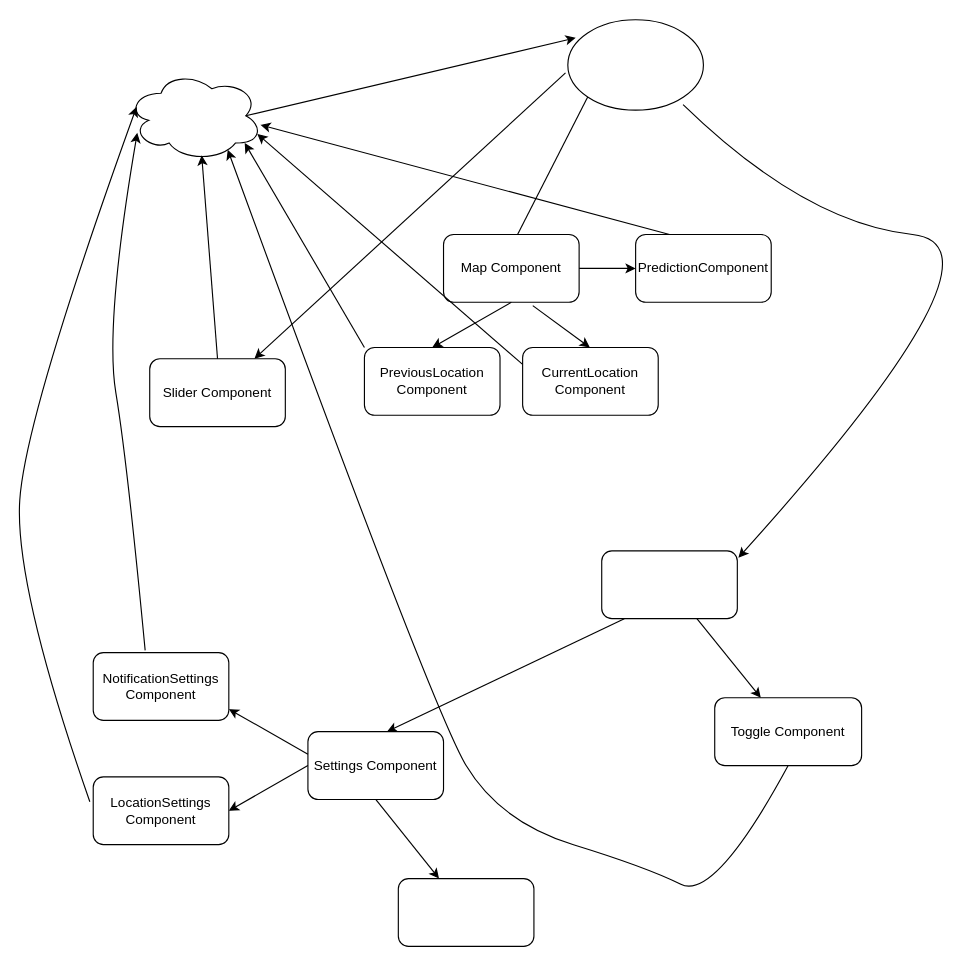
Image size: 963x966. Some labels were removed from this diagram. Each missing label, with the centre of its shape:
App Component: (x=635, y=64)
Feedback Component: (x=465, y=911)
Navbar Component: (x=669, y=584)
REDUX: (x=194, y=115)
